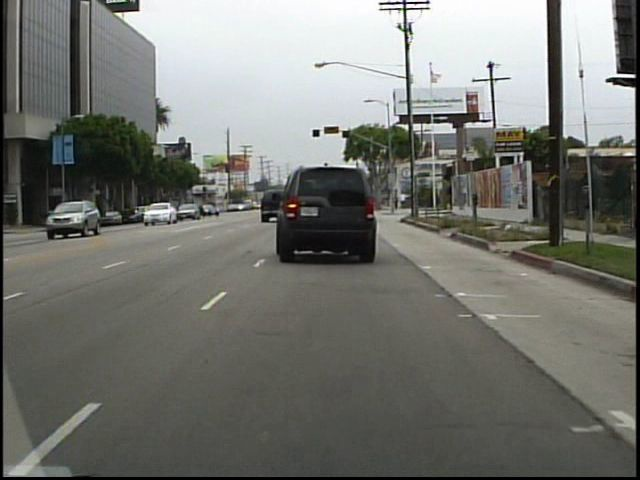person: (400, 188, 407, 212), (392, 191, 399, 211)
